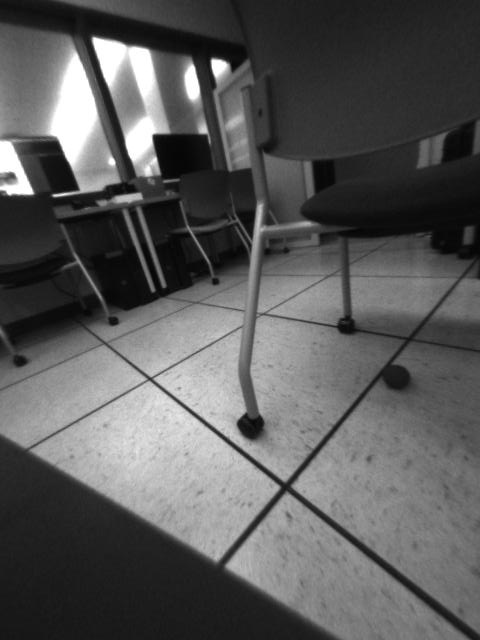dogtoy: (379, 354, 417, 396)
